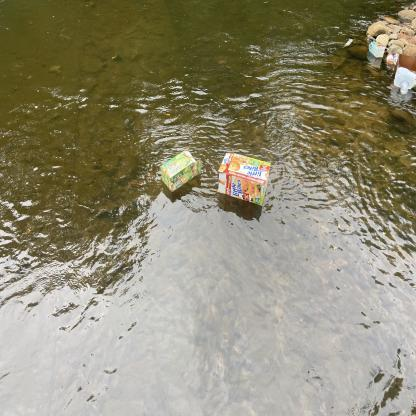trash: (216, 150, 272, 209), (159, 147, 204, 192), (393, 66, 416, 90), (394, 53, 416, 77), (367, 39, 385, 59), (400, 80, 410, 96), (386, 52, 394, 66), (393, 53, 399, 66)
